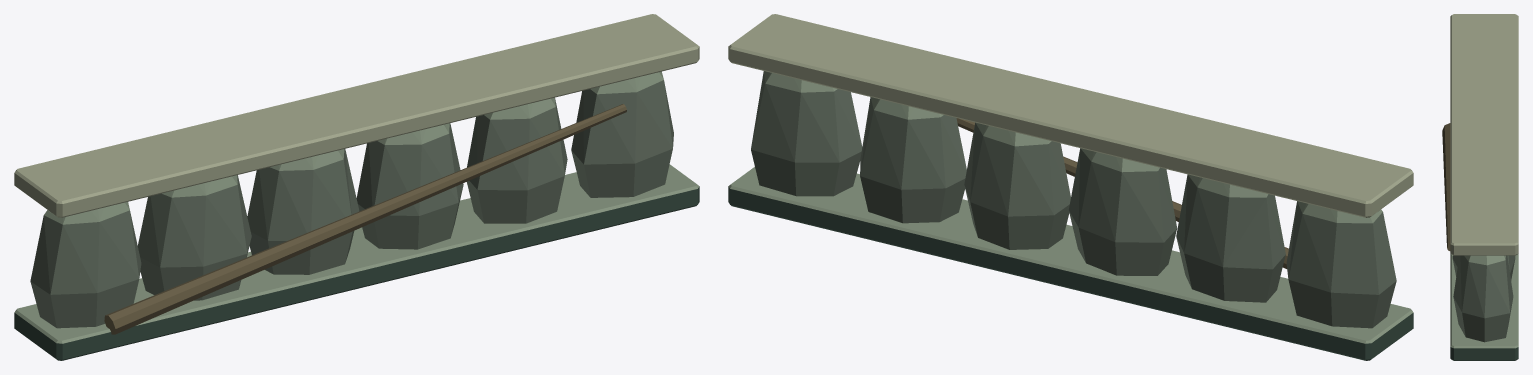
Rendered from wall-long.glb.
3 renders of one model, left to right at view 1: azimuth 30°, elevation 25°; view 2: azimuth 150°, elevation 25°; view 3: azimuth 270°, elevation 25°, orthographic. The views are drawn at different scales.
Visible parts, largest first — view 1: wall-long__body; view 2: wall-long__body; view 3: wall-long__body.
Part boxes in pixels (x1=…): wall-long__body: x1=14, y1=14, x2=699, y2=360; wall-long__body: x1=728, y1=14, x2=1413, y2=360; wall-long__body: x1=1442, y1=14, x2=1518, y2=360.
Bounding box in the file's own units: 4 × 0.95 × 0.56.
